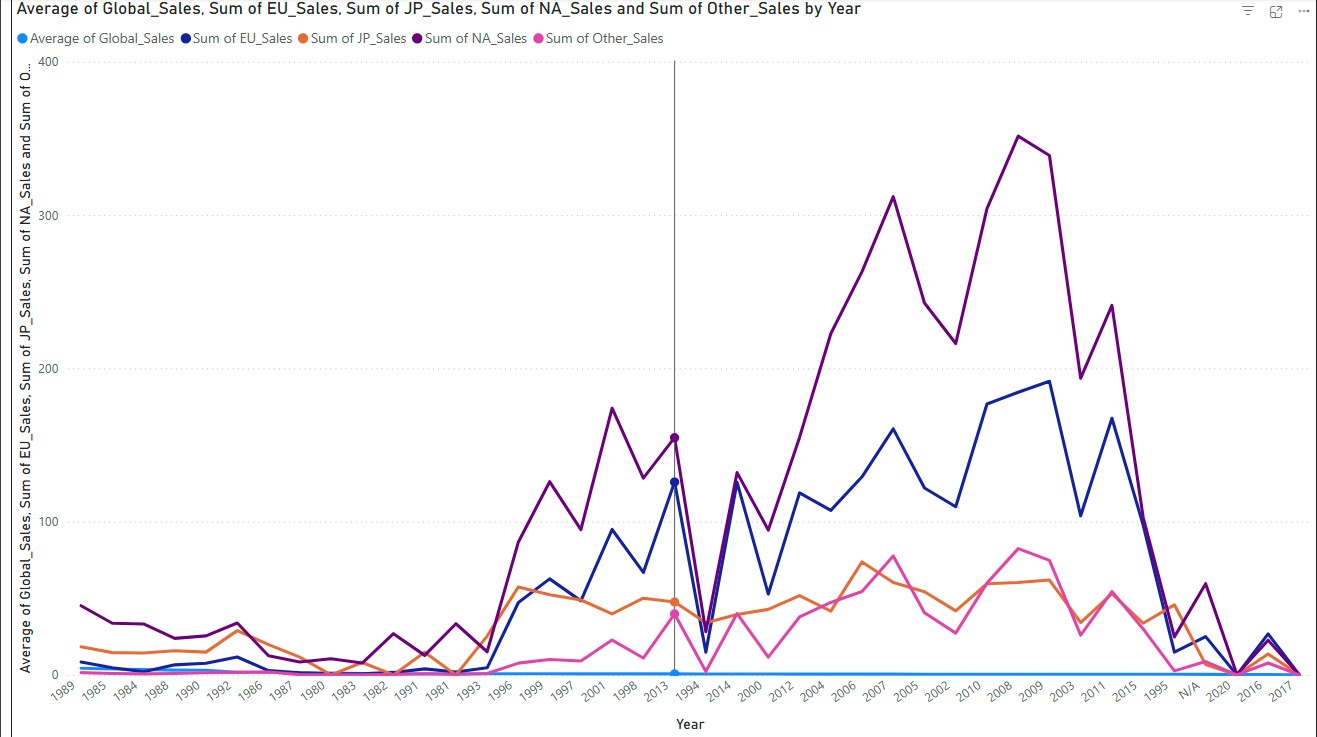

The dashboard page shown, as its layout file describes it:
{"tool":"powerbi","page":{"name":"Page 4","canvas":[1280,720],"ordinal":3},"visuals":[{"type":"lineChart","fields":{"Category":["vgsales.Year"],"Y":["Avg(vgsales.Global_Sales)","Sum(vgsales.EU_Sales)","Sum(vgsales.JP_Sales)","Sum(vgsales.NA_Sales)","Sum(vgsales.Other_Sales)"]},"box":[9.7,0,1270.3,719.8],"z":0}]}

Visuals, with their boxes on the page's 1280x720 design canvas (x1, y1, x2, y2). These are canvas units, not pixel positions in the 1317x737 screenshot, which may show the page scaled, cropped or inside an application window:
lineChart - vgsales.Year x Avg(vgsales.Global_Sales): x1=10, y1=0, x2=1280, y2=720
